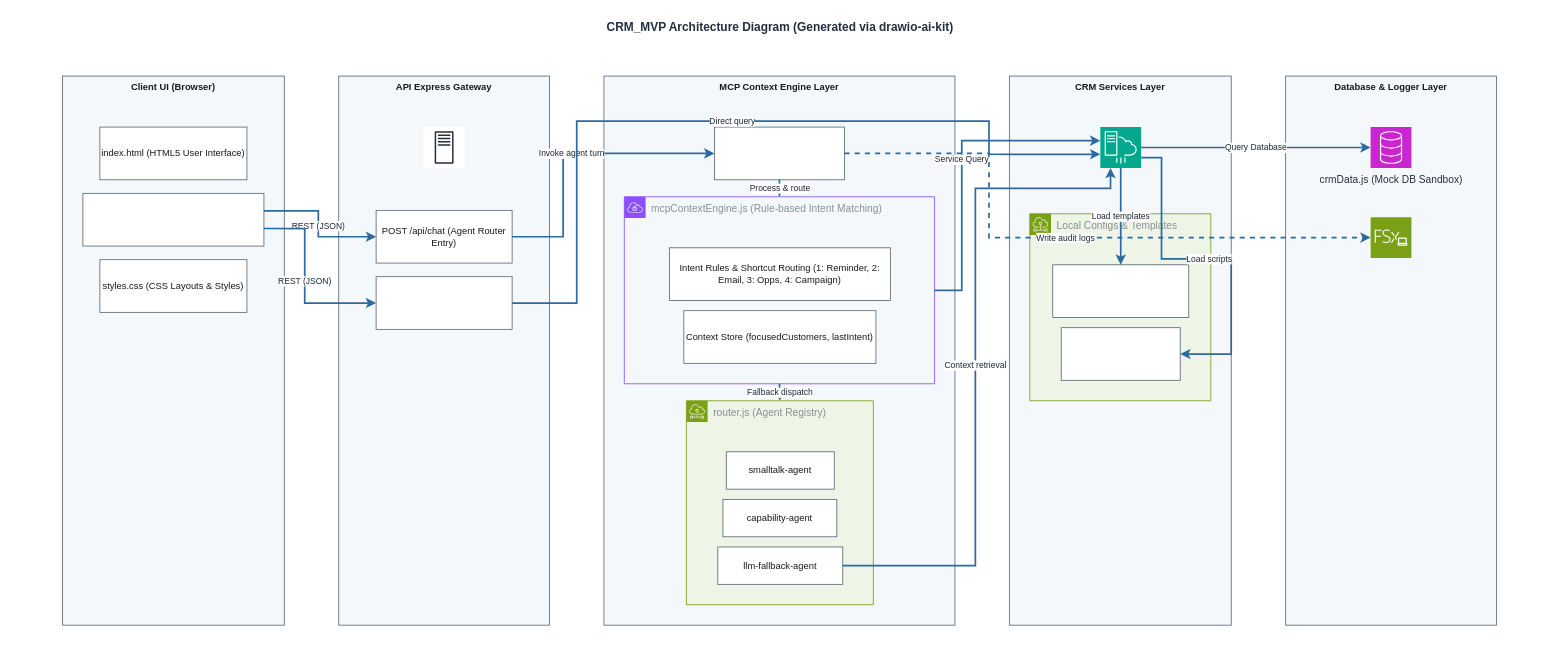
Image size: 1558x653. Some labels were removed from this diagram. Here are the shapes that lost their labels. From the top down, the centre of each, then its label:
At pixel 444 147: "server.js (Express Server)".
At pixel 779 153: "agentService.js (Turn Orchestrator)".
At pixel 1120 147: "crmService.js (Drafts & Queries)".
At pixel 173 219: "app.js (Fetch API & Event handlers)".
At pixel 1390 237: "audit.log (Audit Logs)".
At pixel 443 302: "GET /api/crm/* (Direct CRM Queries)".
At pixel 1120 290: "email_templates.json (Email Templates)".
At pixel 1120 353: "call_scripts.json (Call Scripts)".
